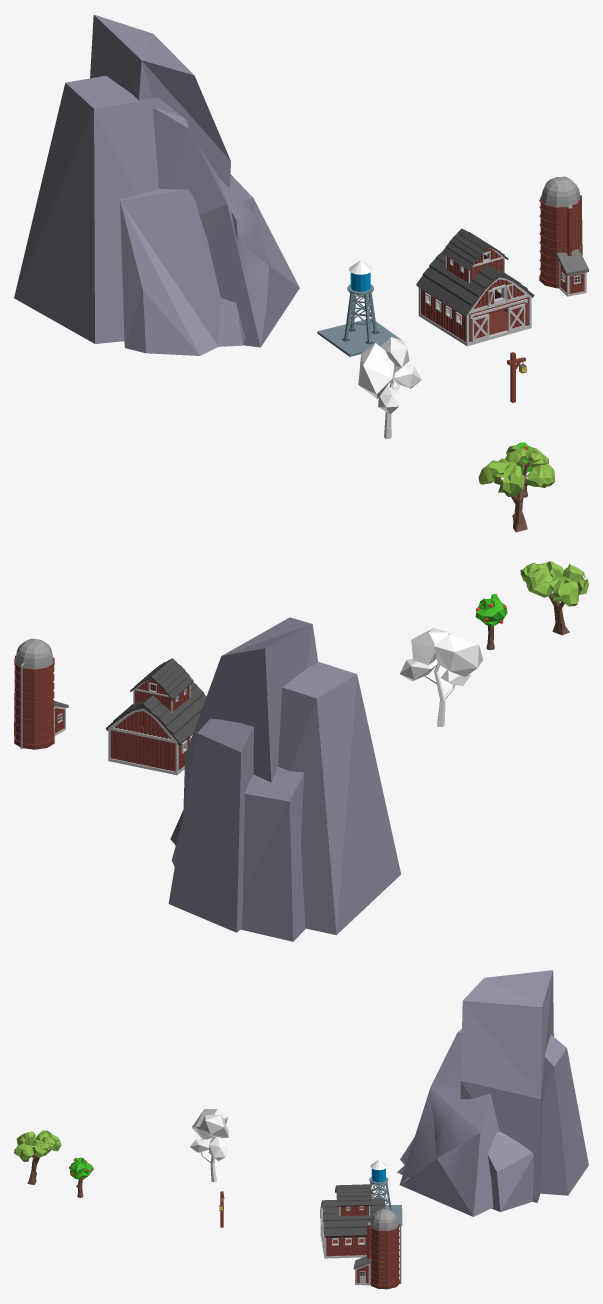
File: Farm_N.glb
3 renders of one model, top to bottom at view 1: azimuth 30°, elevation 25°; view 2: azimuth 150°, elevation 25°; view 3: azimuth 270°, elevation 25°, orthographic. The views are drawn at different scales.
Parts seen in each view (by area): view 1: Nui_01, NhaKho, KhoThoc, Cay01, BonNuoc, Cay_02; view 2: Nui_01, NhaKho, KhoThoc, Cay01, Cay_02, Cay_03; view 3: Nui_01, NhaKho, KhoThoc, Cay01, Cay_02, BonNuoc, Cay_03.
Boxes of the visible parts, bbox=[...] form: Nui_01: bbox=[14, 14, 299, 355]; NhaKho: bbox=[416, 228, 534, 346]; KhoThoc: bbox=[539, 176, 588, 296]; Cay01: bbox=[358, 337, 421, 438]; BonNuoc: bbox=[317, 260, 401, 356]; Cay_02: bbox=[478, 445, 555, 532]; Nui_01: bbox=[168, 617, 401, 941]; NhaKho: bbox=[105, 658, 206, 775]; KhoThoc: bbox=[14, 638, 68, 749]; Cay01: bbox=[400, 628, 482, 727]; Cay_02: bbox=[520, 561, 588, 635]; Cay_03: bbox=[475, 594, 507, 650]; Nui_01: bbox=[397, 970, 588, 1216]; NhaKho: bbox=[321, 1184, 385, 1258]; KhoThoc: bbox=[353, 1208, 401, 1289]; Cay01: bbox=[190, 1109, 228, 1182]; Cay_02: bbox=[14, 1130, 61, 1184]; BonNuoc: bbox=[369, 1160, 402, 1225]; Cay_03: bbox=[69, 1157, 93, 1197].
Bounding box in the file's own units: 75.97 × 45.18 × 118.
